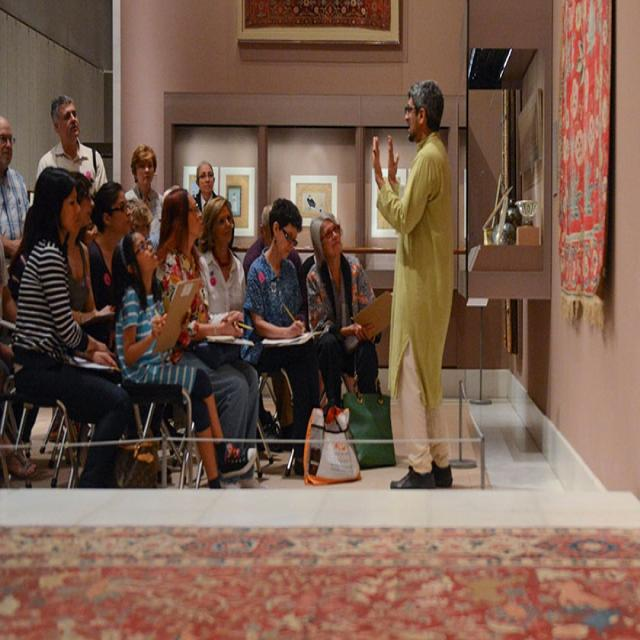body: (108, 229, 258, 498), (11, 164, 132, 492), (370, 74, 454, 496), (155, 186, 260, 481), (242, 197, 323, 478), (196, 194, 262, 479), (306, 207, 381, 416), (80, 181, 136, 352), (67, 168, 117, 351), (35, 91, 110, 199), (240, 202, 305, 285), (0, 113, 32, 264), (124, 143, 164, 254), (0, 225, 17, 482), (192, 160, 235, 251), (117, 196, 158, 247)
